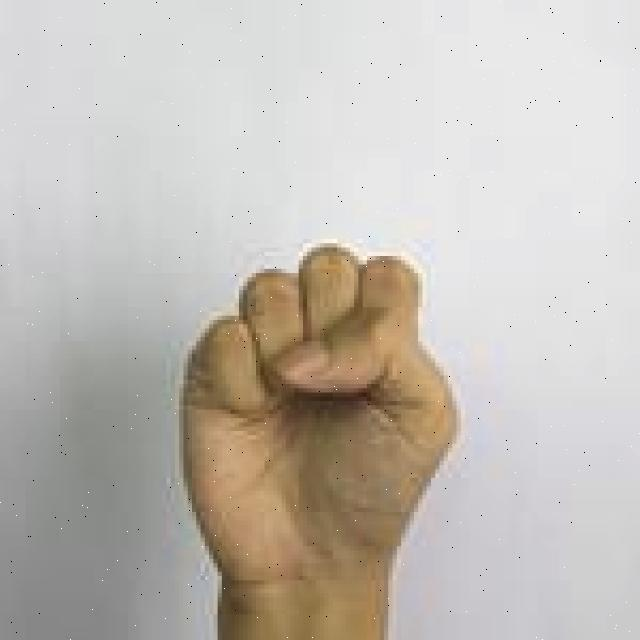S: (172, 237, 472, 640)
